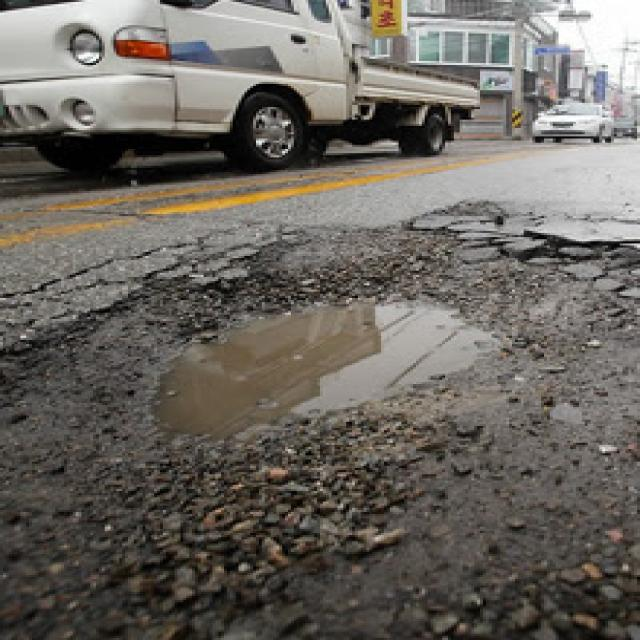pothole: (144, 263, 512, 448)
